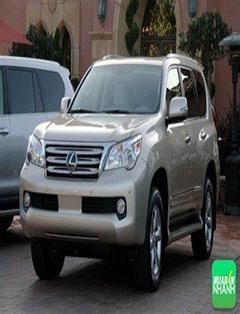car: (3, 24, 227, 300)
